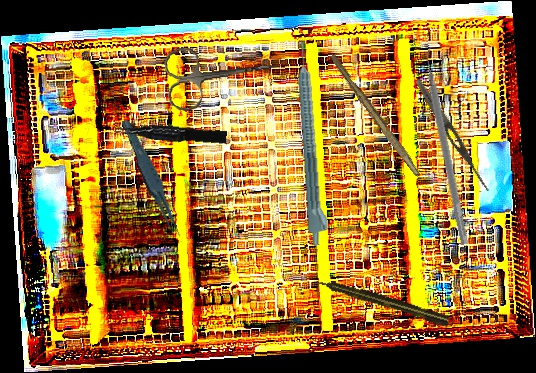Dressing Forceps: (412, 77, 494, 194)
Handpiece: (294, 40, 332, 247), (311, 274, 452, 328)
Iris Scissors: (162, 35, 286, 113)
Scalpel Handle: (327, 53, 424, 177)
Spatula Surgical: (418, 45, 478, 246)
Tissue Forceps: (120, 115, 183, 244), (113, 117, 228, 149)
